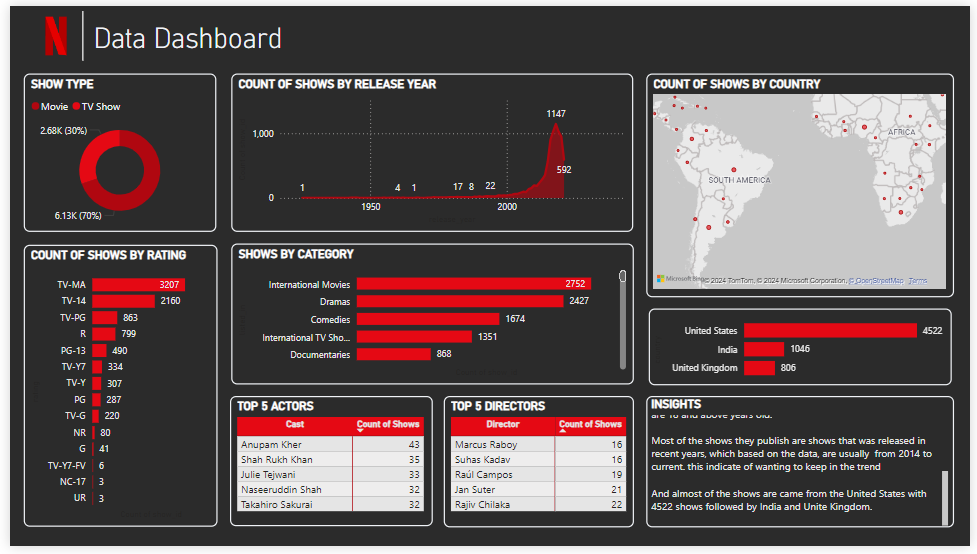

What the dashboard file says about the page in this screenshot:
{"tool":"powerbi","page":{"name":"Page 1","canvas":[1280,720],"ordinal":0},"visuals":[{"type":"donutChart","title":"SHOW TYPE","fields":{"Category":["fnetflix_titles.type"],"Y":["CountNonNull(fnetflix_titles.show_id)"]},"box":[19,90,257,211],"z":0},{"type":"clusteredBarChart","title":"SHOWS BY CATEGORY","fields":{"Category":["dcategory_mapping.listed_in"],"Y":["CountNonNull(dcategory_mapping.show_id)"]},"box":[295,316.7,536.7,188.3],"z":1000},{"type":"barChart","title":"COUNT OF SHOWS BY RATING","fields":{"Y":["CountNonNull(fnetflix_titles.show_id)"],"Category":["fnetflix_titles.rating"]},"box":[17.5,318.8,258.8,376.2],"z":2000},{"type":"areaChart","title":"COUNT OF SHOWS BY RELEASE YEAR","fields":{"Category":["fnetflix_titles.release_year"],"Y":["CountNonNull(fnetflix_titles.show_id)"]},"box":[295,90,536.2,211.2],"z":3000},{"type":"map","title":"COUNT OF SHOWS BY COUNTRY","fields":{"Category":["dcountry.country"],"Size":["CountNonNull(dcountry.show_id)"]},"box":[848.6,90,410,298.6],"z":4000},{"type":"pivotTable","title":"TOP 5 ACTORS ","fields":{"Rows":["dcast.cast"],"Values":["CountNonNull(dcast.show_id)"]},"box":[293.3,520,270,173.3],"z":5000},{"type":"pivotTable","title":"TOP 5 DIRECTORS","fields":{"Rows":["ddirector.director"],"Values":["CountNonNull(ddirector.show_id)"]},"box":[578.3,520,253.3,175],"z":6000},{"type":"textbox","title":"INSIGHTS","box":[848,520,410,175],"z":7000},{"type":"image","box":[17,0,88,80],"z":8000},{"type":"shape","box":[37.5,6.9,117.5,66.2],"z":9000},{"type":"textbox","box":[106.2,15,377.5,98.8],"z":10000},{"type":"clusteredBarChart","title":"SHOWS BY CATEGORY","fields":{"Category":["dcountry.country"],"Y":["CountNonNull(dcountry.show_id)"]},"box":[851.2,402.5,403.8,102.5],"z":10002}]}

Visuals, with their boxes in screenshot pixels (x1, y1, x2, y2), scaled from the page's 1280x720 canvas onto the 977x554 screenshot:
"SHOW TYPE" donutChart: 15, 69, 211, 232
"SHOWS BY CATEGORY" clusteredBarChart: 225, 244, 635, 389
"COUNT OF SHOWS BY RATING" barChart: 13, 245, 211, 535
"COUNT OF SHOWS BY RELEASE YEAR" areaChart: 225, 69, 634, 232
"COUNT OF SHOWS BY COUNTRY" map: 648, 69, 961, 299
"TOP 5 ACTORS " pivotTable: 224, 400, 430, 533
"TOP 5 DIRECTORS" pivotTable: 441, 400, 635, 535
"INSIGHTS" textbox: 647, 400, 960, 535
image: 13, 0, 80, 62
shape: 29, 5, 118, 56
textbox: 81, 12, 369, 88
"SHOWS BY CATEGORY" clusteredBarChart: 650, 310, 958, 389
